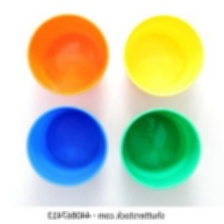glass: (114, 104, 209, 196), (24, 4, 116, 98), (20, 105, 114, 195), (119, 10, 210, 101)
